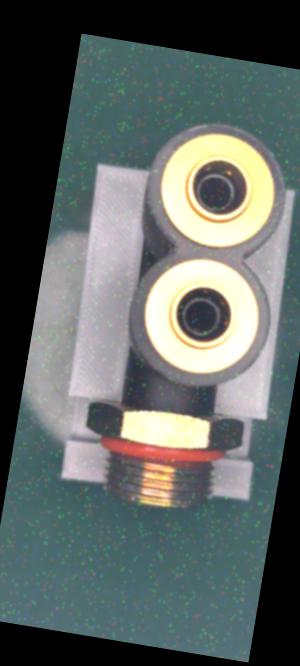joint line: (167, 378, 183, 414)
